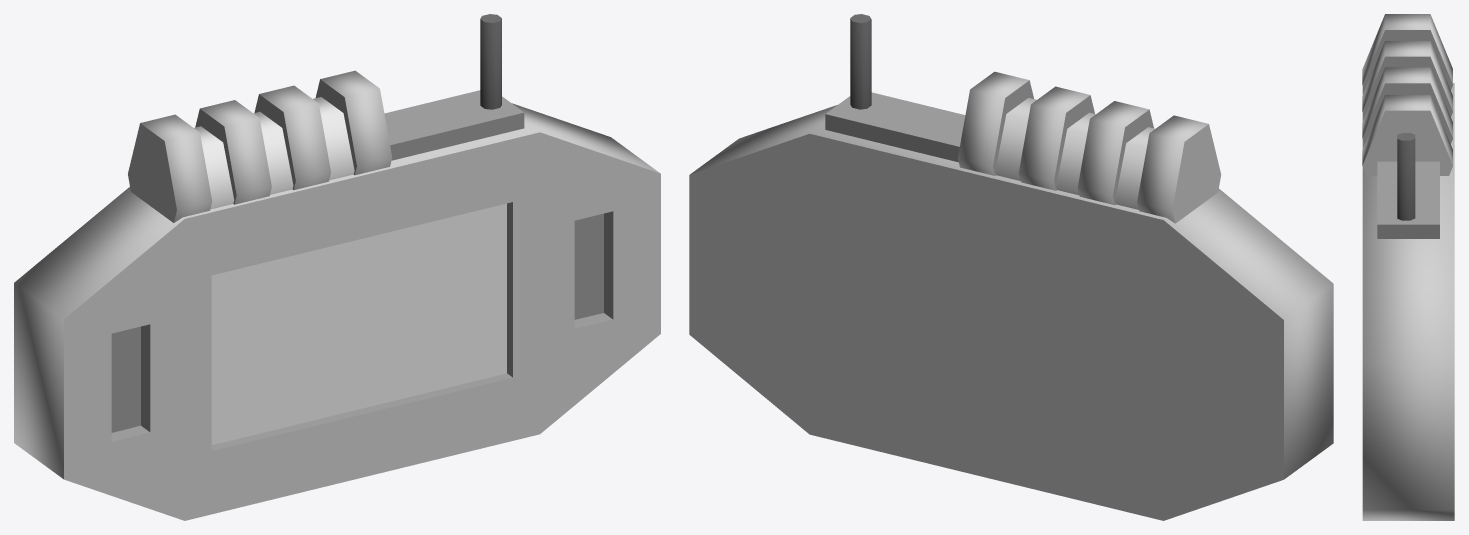
The model's file is HealthScanner.fbx.
3 renders of one model, left to right at view 1: azimuth 30°, elevation 25°; view 2: azimuth 150°, elevation 25°; view 3: azimuth 270°, elevation 25°, orthographic. The views are drawn at different scales.
Parts seen in each view (by area): view 1: HealthScanner; view 2: HealthScanner; view 3: HealthScanner.
Boxes of the visible parts, x1,y1,x2,y2 form: HealthScanner: [14, 14, 660, 520]; HealthScanner: [689, 14, 1333, 520]; HealthScanner: [1362, 14, 1454, 520].
Bounding box in the file's own units: 0.4243 × 0.2748 × 0.0615.
